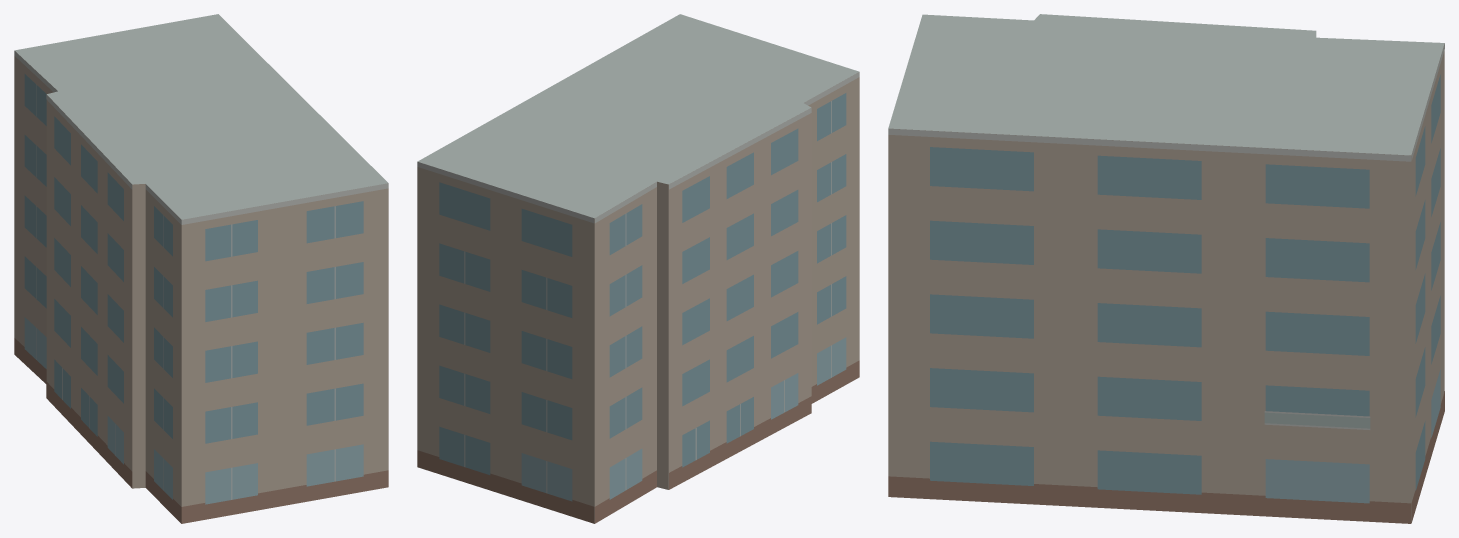
File: survey-upis-33025682.glb
The picture shows the model from 3 angles, left to right: view 1: azimuth 30°, elevation 25°; view 2: azimuth 150°, elevation 25°; view 3: azimuth 270°, elevation 25°; orthographic projection. The views are drawn at different scales.
Parts seen in each view (by area): view 1: survey-upis-33025682.tmp; view 2: survey-upis-33025682.tmp; view 3: survey-upis-33025682.tmp.
Part boxes in pixels (<box>): survey-upis-33025682.tmp: <box>14,14,388,523</box>; survey-upis-33025682.tmp: <box>417,14,859,523</box>; survey-upis-33025682.tmp: <box>888,14,1444,523</box>.
Size of the model in its own units: 11.79 by 14.3 by 19.59.
